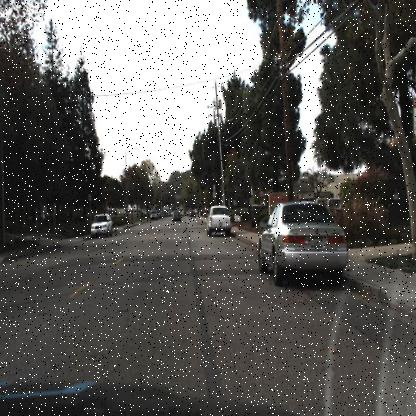car: (258, 198, 350, 290), (256, 201, 348, 282), (205, 203, 233, 241), (206, 204, 232, 240), (87, 210, 115, 242), (90, 212, 112, 235), (170, 208, 184, 227)
